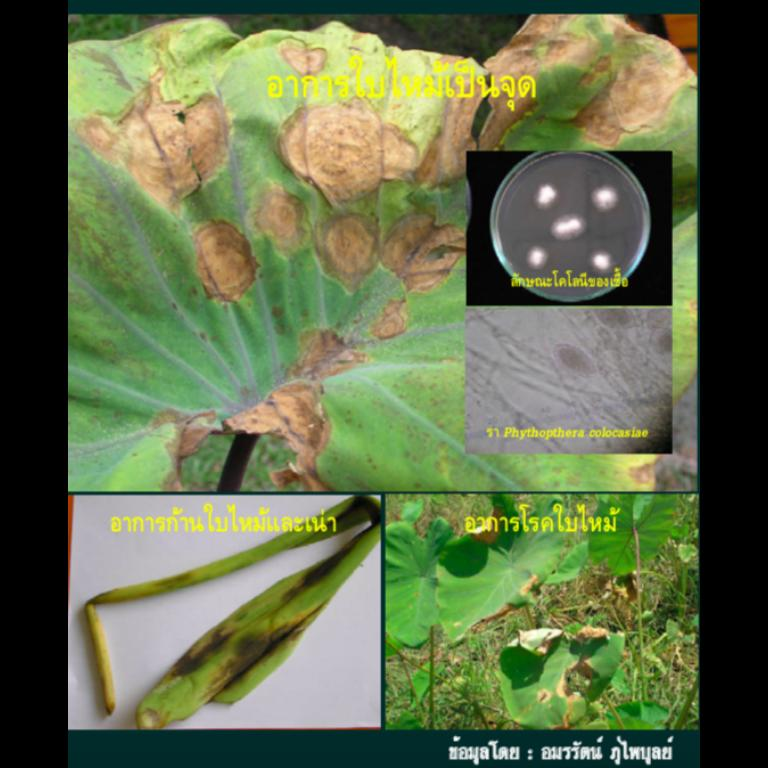blight: (84, 78, 260, 308), (284, 107, 446, 348)
